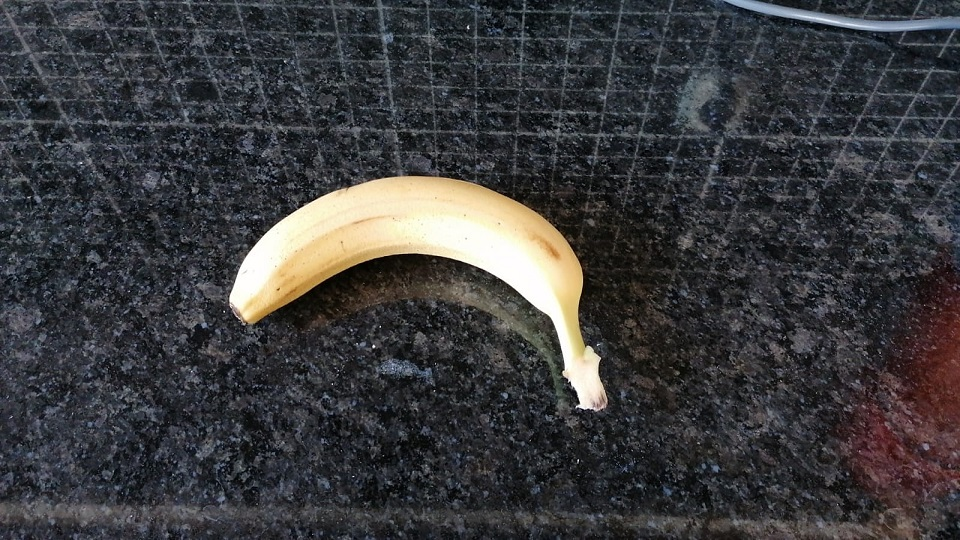muz: (227, 173, 609, 413)
